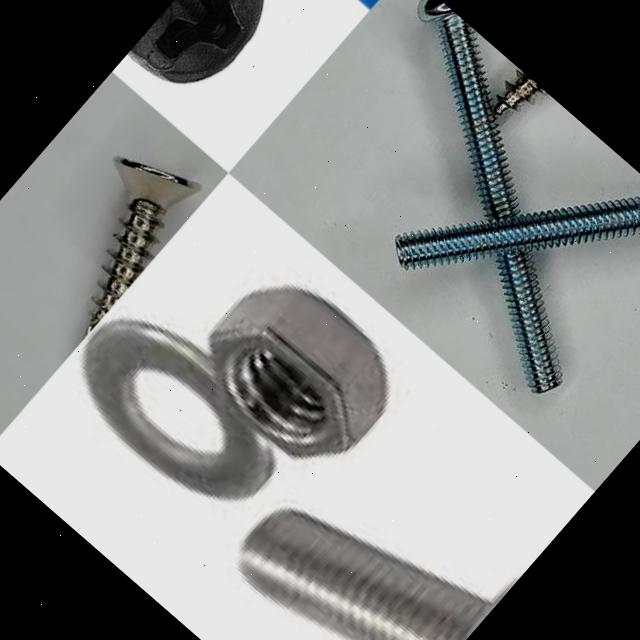Screw: (239, 507, 513, 640), (419, 0, 518, 220), (83, 157, 201, 340), (395, 197, 640, 268), (118, 0, 270, 94), (496, 253, 561, 394), (494, 71, 542, 115)
